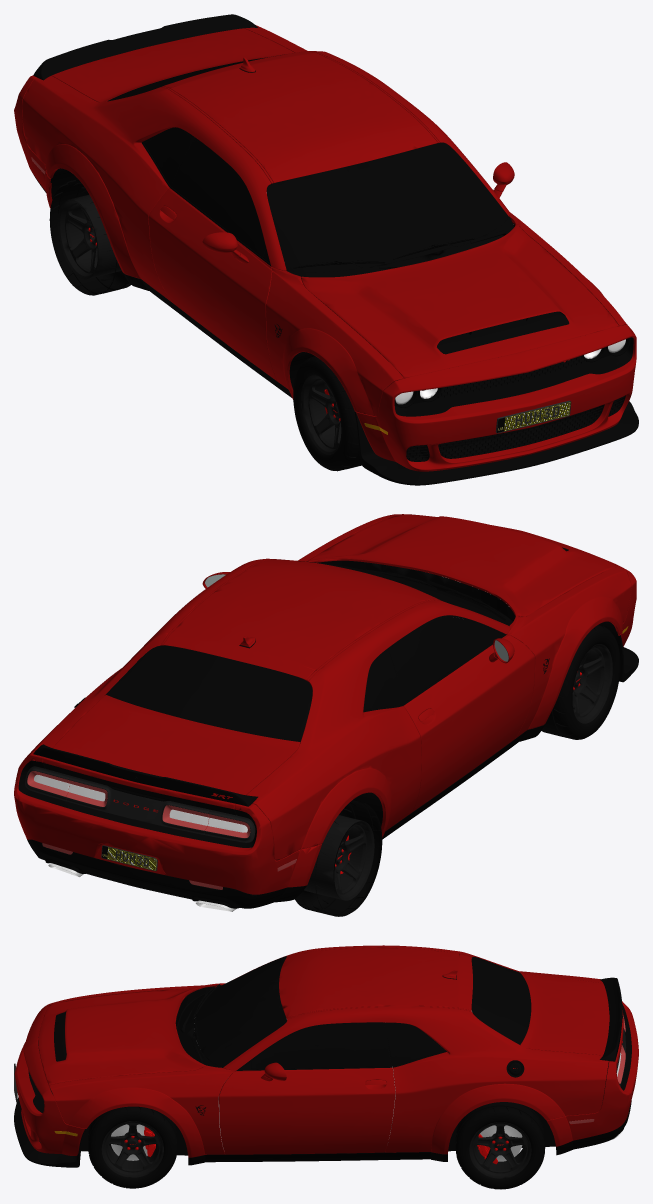
File: dodge__challenger.glb
The picture shows the model from 3 angles, top to bottom: view 1: azimuth 30°, elevation 25°; view 2: azimuth 150°, elevation 25°; view 3: azimuth 270°, elevation 25°; orthographic projection. The views are drawn at different scales.
Parts seen in each view (by area): view 1: desirefx.me_001, desirefx.me_085, desirefx.me_081, desirefx.me_009, desirefx.me_084, desirefx.me_086, desirefx.me_011, desirefx.me_047, desirefx.me_033, desirefx.me_027, desirefx.me_080, desirefx.me_063 (+14 smaller); view 2: desirefx.me_001, desirefx.me_081, desirefx.me_085, desirefx.me_086, desirefx.me_002, desirefx.me_084, desirefx.me_011, desirefx.me_021, desirefx.me_080, desirefx.me_039, desirefx.me_038, desirefx.me_063 (+12 smaller); view 3: desirefx.me_001, desirefx.me_081, desirefx.me_084, desirefx.me_085, desirefx.me_011, desirefx.me_009, desirefx.me_086, desirefx.me_002, desirefx.me_062, desirefx.me_053, desirefx.me_061, desirefx.me_017 (+13 smaller).
Part boxes in pixels (x1,y1,x2,y2): desirefx.me_001: [14, 51, 636, 471]; desirefx.me_085: [301, 224, 618, 378]; desirefx.me_081: [22, 25, 510, 301]; desirefx.me_009: [266, 142, 508, 272]; desirefx.me_084: [148, 188, 276, 380]; desirefx.me_086: [51, 28, 294, 102]; desirefx.me_011: [144, 129, 265, 257]; desirefx.me_047: [354, 401, 638, 485]; desirefx.me_033: [394, 337, 633, 416]; desirefx.me_027: [33, 14, 257, 80]; desirefx.me_080: [57, 194, 121, 279]; desirefx.me_063: [293, 356, 361, 471]; desirefx.me_001: [14, 514, 636, 894]; desirefx.me_081: [27, 558, 510, 860]; desirefx.me_085: [305, 514, 618, 616]; desirefx.me_086: [43, 695, 300, 809]; desirefx.me_002: [105, 645, 312, 743]; desirefx.me_084: [403, 635, 534, 811]; desirefx.me_011: [363, 617, 495, 710]; desirefx.me_021: [27, 839, 306, 908]; desirefx.me_080: [304, 815, 374, 900]; desirefx.me_039: [25, 766, 255, 842]; desirefx.me_038: [18, 760, 256, 847]; desirefx.me_063: [541, 625, 620, 739]; desirefx.me_001: [14, 947, 638, 1157]; desirefx.me_081: [223, 945, 608, 1154]; desirefx.me_084: [219, 1067, 395, 1154]; desirefx.me_085: [38, 985, 206, 1085]; desirefx.me_011: [251, 1023, 444, 1069]; desirefx.me_009: [194, 956, 286, 1067]; desirefx.me_086: [520, 972, 623, 1059]; desirefx.me_002: [471, 956, 531, 1044]; desirefx.me_062: [455, 1102, 545, 1189]; desirefx.me_053: [88, 1106, 177, 1188]; desirefx.me_061: [469, 1122, 531, 1178]; desirefx.me_017: [101, 1121, 163, 1177].
Size of the model in its own units: 217 by 150 by 502.
19 materials, 1 textured.
